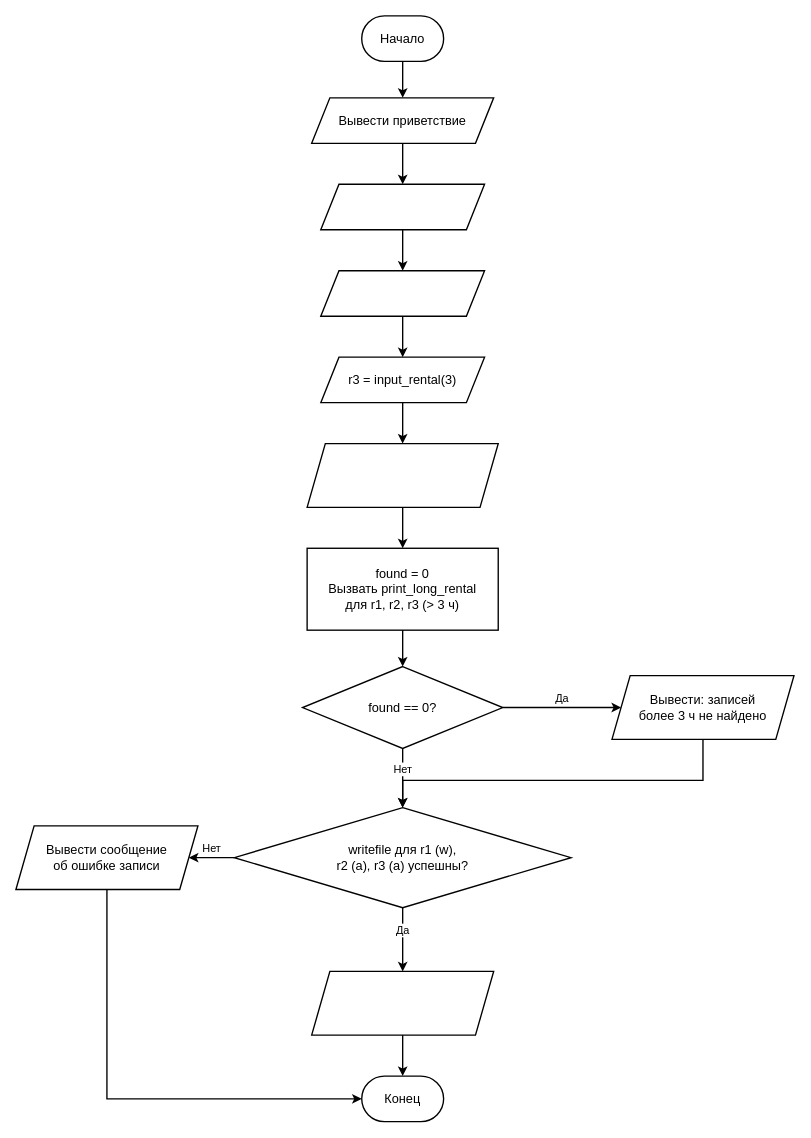
Some shapes in this 811 by 1138 pixel diagram are drawn without their labels. Here are the shapes that lost their labels. From the top down, the box of each, then its label:
(320, 183, 485, 230): r1 = input_rental(1)
(320, 270, 485, 316): r2 = input_rental(2)
(306, 443, 498, 508): Вывести все записи: print_rental(r1, 1); r2; r3
(311, 970, 494, 1035): Вывести сообщение об успешной записи
